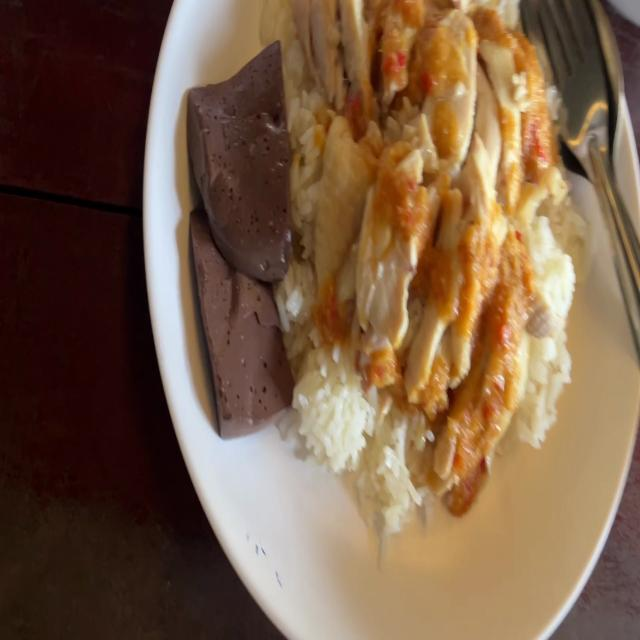boiled_chicken: (295, 0, 550, 399)
boiled_chicken_blood_jelly: (182, 38, 290, 276), (189, 200, 286, 425)
chicken_rice: (175, 0, 593, 542)
